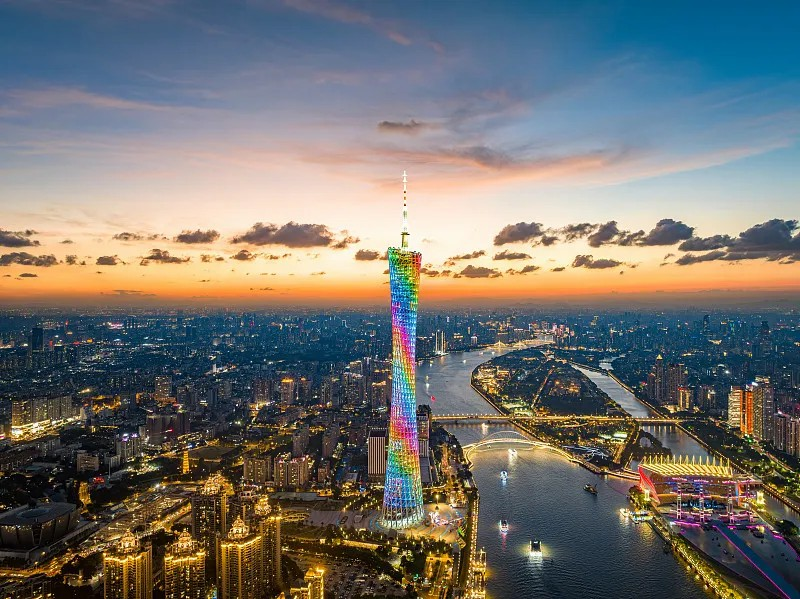Canton: (382, 168, 427, 531)
